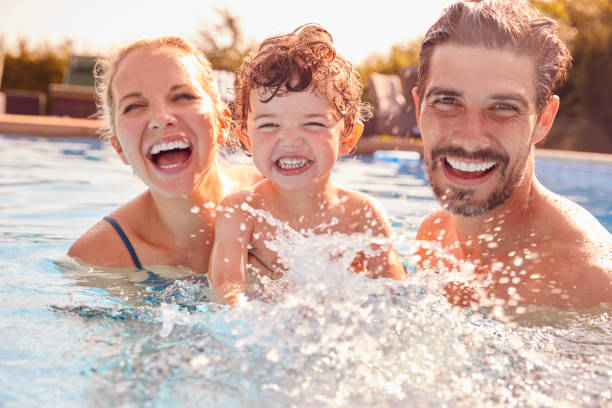without mask: (412, 37, 548, 221), (101, 46, 221, 195), (242, 74, 349, 199)
